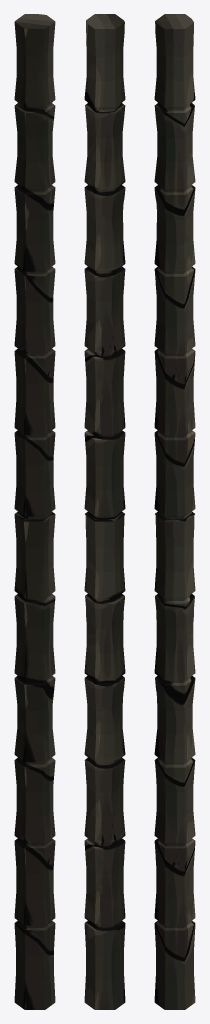
File: bamboo.fbx
The picture shows the model from 3 angles, left to right: view 1: azimuth 30°, elevation 25°; view 2: azimuth 150°, elevation 25°; view 3: azimuth 330°, elevation 25°; orthographic projection.
Parts seen in each view (by area): view 1: Cylinder.001; view 2: Cylinder.001; view 3: Cylinder.001.
Part boxes in pixels (x1,y1,x2,y2): Cylinder.001: (14,14,55,1009); Cylinder.001: (84,14,125,1009); Cylinder.001: (154,14,195,1009).
Size of the model in its own units: 106 by 3240 by 123.
